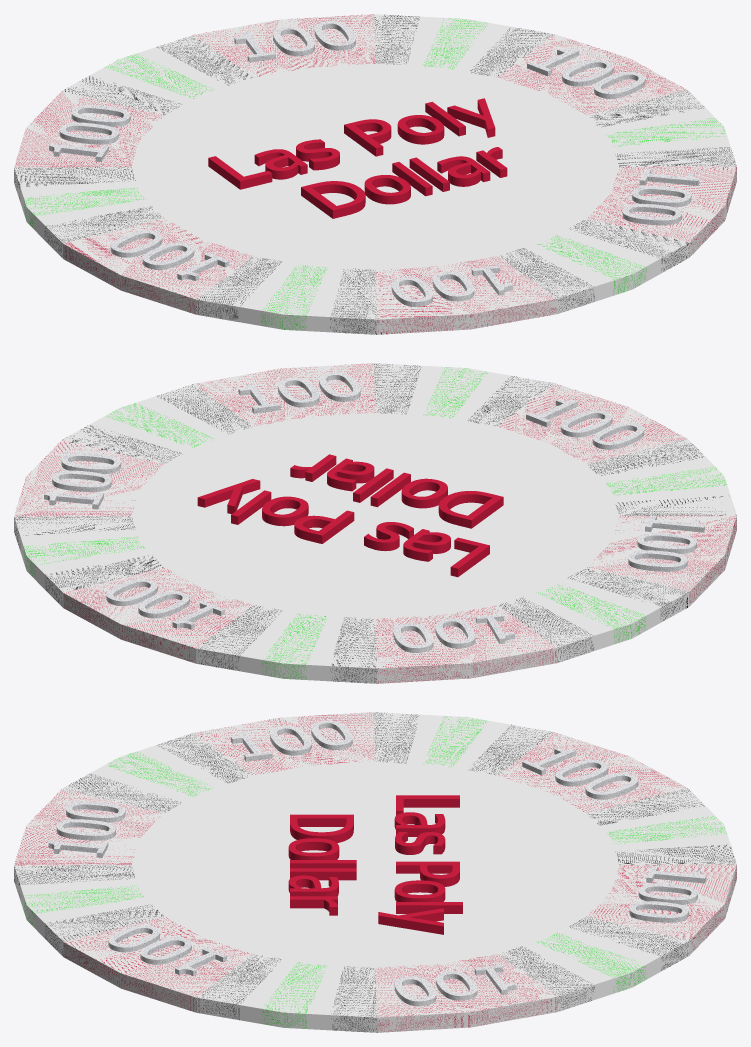
The model's file is hundretLPD.obj.
3 views of the same model, one above another, from view 1: azimuth 30°, elevation 25°; view 2: azimuth 150°, elevation 25°; view 3: azimuth 270°, elevation 25° (orthographic).
Parts seen in each view (by area): view 1: Mesh109 Model, Mesh80 Las_Poly_Dollar_1_1 Model, Mesh76 Las_Poly_Dollar_1_1 Model, Mesh84 Las_Poly_Dollar_1_1 Model, Mesh74 Las_Poly_Dollar_1_1 Model, Mesh77 Las_Poly_Dollar_1_1 Model, Mesh81 Las_Poly_Dollar_1_1 Model, Mesh75 Las_Poly_Dollar_1_1 Model, Mesh14 G_100_2 Model, Mesh63 G_100_6 Model, Mesh62 G_100_6 Model, Mesh15 G_100_2 Model (+20 smaller); view 2: Mesh109 Model, Mesh80 Las_Poly_Dollar_1_1 Model, Mesh76 Las_Poly_Dollar_1_1 Model, Mesh74 Las_Poly_Dollar_1_1 Model, Mesh84 Las_Poly_Dollar_1_1 Model, Mesh81 Las_Poly_Dollar_1_1 Model, Mesh77 Las_Poly_Dollar_1_1 Model, Mesh39 G_100_4 Model, Mesh75 Las_Poly_Dollar_1_1 Model, Mesh79 Las_Poly_Dollar_1_1 Model, Mesh26 G_100_3 Model, Mesh38 G_100_4 Model (+20 smaller); view 3: Mesh109 Model, Mesh80 Las_Poly_Dollar_1_1 Model, Mesh76 Las_Poly_Dollar_1_1 Model, Mesh79 Las_Poly_Dollar_1_1 Model, Mesh81 Las_Poly_Dollar_1_1 Model, Mesh3 G_100_1 Model, Mesh77 Las_Poly_Dollar_1_1 Model, Mesh50 G_100_5 Model, Mesh51 G_100_5 Model, Mesh2 G_100_1 Model, Mesh74 Las_Poly_Dollar_1_1 Model, Mesh84 Las_Poly_Dollar_1_1 Model (+20 smaller).
Boxes of the visible parts, x1,y1,x2,y2 form: Mesh109 Model: (14,14,736,334); Mesh80 Las_Poly_Dollar_1_1 Model: (301,181,365,218); Mesh76 Las_Poly_Dollar_1_1 Model: (344,119,391,156); Mesh84 Las_Poly_Dollar_1_1 Model: (437,156,490,186); Mesh74 Las_Poly_Dollar_1_1 Model: (254,149,307,179); Mesh77 Las_Poly_Dollar_1_1 Model: (397,115,444,144); Mesh81 Las_Poly_Dollar_1_1 Model: (364,175,410,204); Mesh75 Las_Poly_Dollar_1_1 Model: (296,139,339,170); Mesh14 G_100_2 Model: (59,122,118,144); Mesh63 G_100_6 Model: (622,203,681,225); Mesh62 G_100_6 Model: (632,186,691,207); Mesh15 G_100_2 Model: (71,105,130,126); Mesh109 Model: (14,363,736,683); Mesh80 Las_Poly_Dollar_1_1 Model: (438,491,503,528); Mesh76 Las_Poly_Dollar_1_1 Model: (294,510,354,543); Mesh74 Las_Poly_Dollar_1_1 Model: (403,529,450,561); Mesh84 Las_Poly_Dollar_1_1 Model: (327,458,374,491); Mesh81 Las_Poly_Dollar_1_1 Model: (401,478,447,508); Mesh77 Las_Poly_Dollar_1_1 Model: (262,496,308,526); Mesh39 G_100_4 Model: (628,550,687,571); Mesh75 Las_Poly_Dollar_1_1 Model: (364,522,413,551); Mesh79 Las_Poly_Dollar_1_1 Model: (197,479,260,514); Mesh26 G_100_3 Model: (52,470,111,491); Mesh38 G_100_4 Model: (637,532,696,553); Mesh109 Model: (14,712,736,1032); Mesh80 Las_Poly_Dollar_1_1 Model: (290,814,353,843); Mesh76 Las_Poly_Dollar_1_1 Model: (396,861,459,886); Mesh79 Las_Poly_Dollar_1_1 Model: (378,908,443,934); Mesh81 Las_Poly_Dollar_1_1 Model: (288,838,339,859); Mesh3 G_100_1 Model: (629,901,688,922); Mesh77 Las_Poly_Dollar_1_1 Model: (394,880,445,901); Mesh50 G_100_5 Model: (56,819,115,840); Mesh51 G_100_5 Model: (66,801,125,822); Mesh2 G_100_1 Model: (638,883,697,904); Mesh74 Las_Poly_Dollar_1_1 Model: (394,812,445,836); Mesh84 Las_Poly_Dollar_1_1 Model: (288,875,338,896).
Size of the model in its own units: 21.5 by 0.78 by 21.5.
